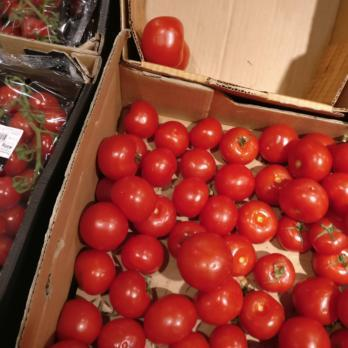Tomato: (94, 138, 348, 348), (112, 132, 348, 348), (137, 15, 189, 69)
